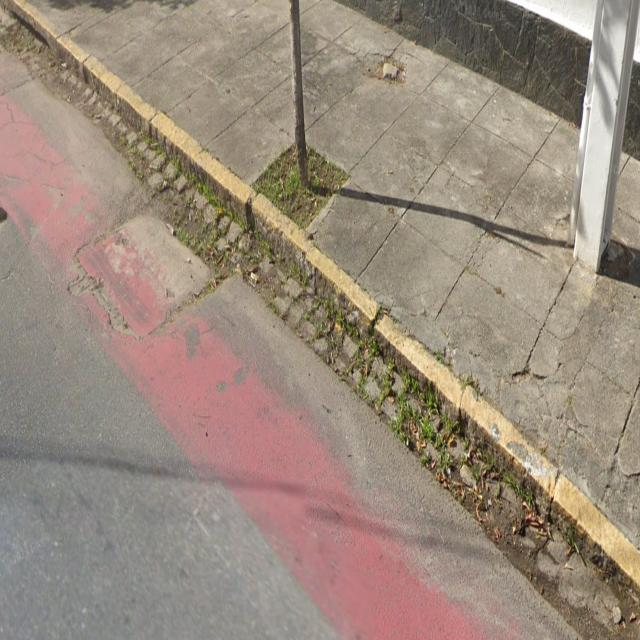Buraco: (74, 192, 235, 343)
